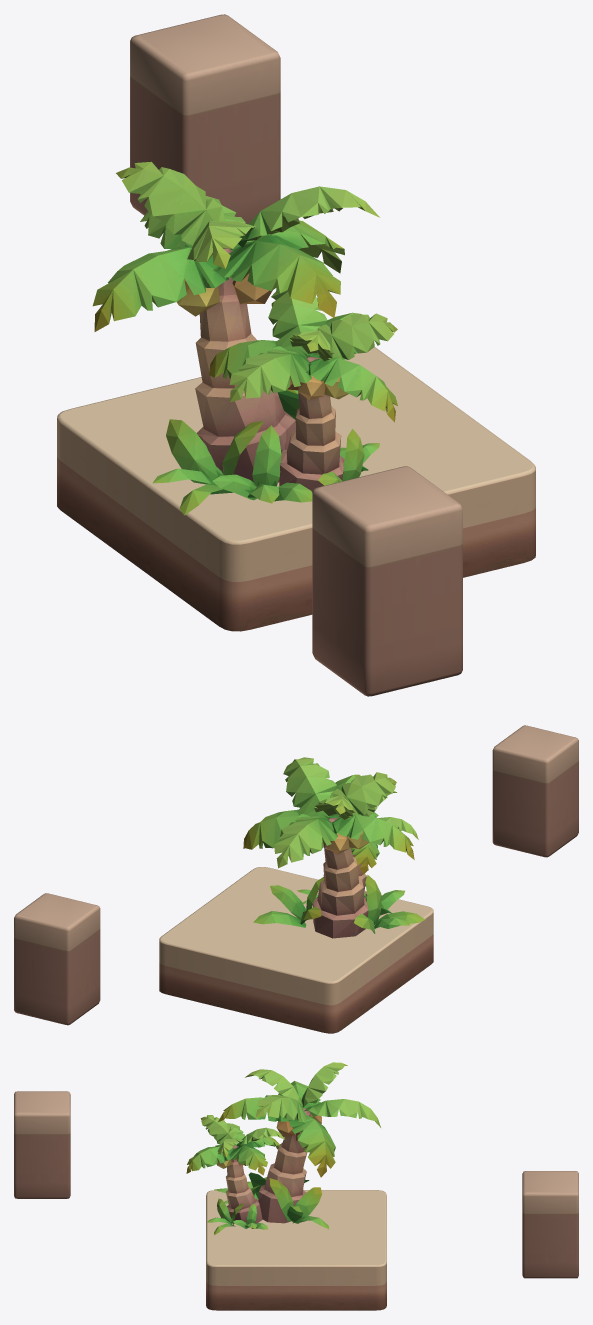
Rendered from Props.fbx.
3 renders of one model, top to bottom at view 1: azimuth 30°, elevation 25°; view 2: azimuth 150°, elevation 25°; view 3: azimuth 270°, elevation 25°, orthographic. The views are drawn at different scales.
Visible parts, largest first — view 1: yezishu01, Box02, Box03 (1), Box03; view 2: Box02, yezishu01, Box03 (1), Box03; view 3: Box02, yezishu01, Box03 (1), Box03.
Part boxes in pixels (left/top/right/bottom): yezishu01: left=92, top=161, right=397, bottom=515; Box02: left=57, top=347, right=535, bottom=631; Box03 (1): left=312, top=466, right=462, bottom=696; Box03: left=130, top=14, right=280, bottom=224; Box02: left=159, top=867, right=433, bottom=1033; yezishu01: left=243, top=757, right=425, bottom=938; Box03 (1): left=492, top=725, right=578, bottom=857; Box03: left=14, top=893, right=100, bottom=1025; Box02: left=206, top=1190, right=386, bottom=1310; yezishu01: left=186, top=1062, right=380, bottom=1235; Box03 (1): left=14, top=1091, right=70, bottom=1198; Box03: left=522, top=1171, right=578, bottom=1278.
Size of the model in its own units: 13 by 10.64 by 30.
